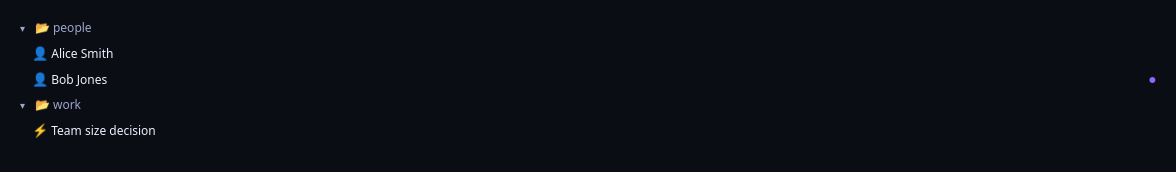
Test case: FileTree — context menu › Rename cancels on Escape
Right-click the button with test id "tree-file" showing "👤 Alice Smith": (82, 53) [12, 40, 1164, 66]
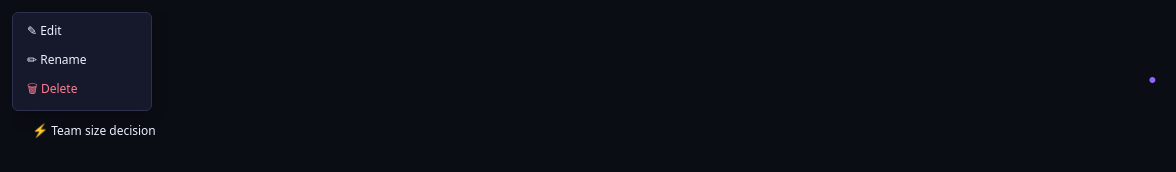
Click the menu item with test id "context-rename": (82, 60) [13, 45, 151, 74]
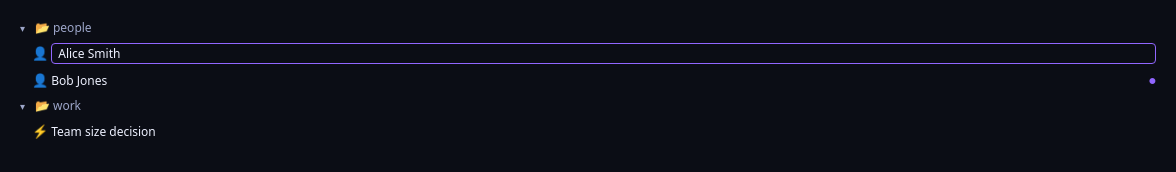
Press Escape in the field with test id "rename-input", box [51, 43, 1156, 64]
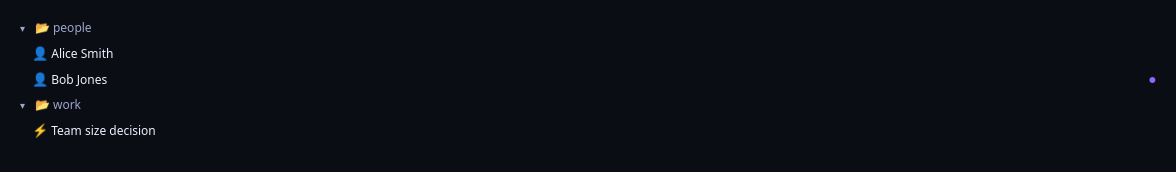
Expected: the field with test id "rename-input" is gone
